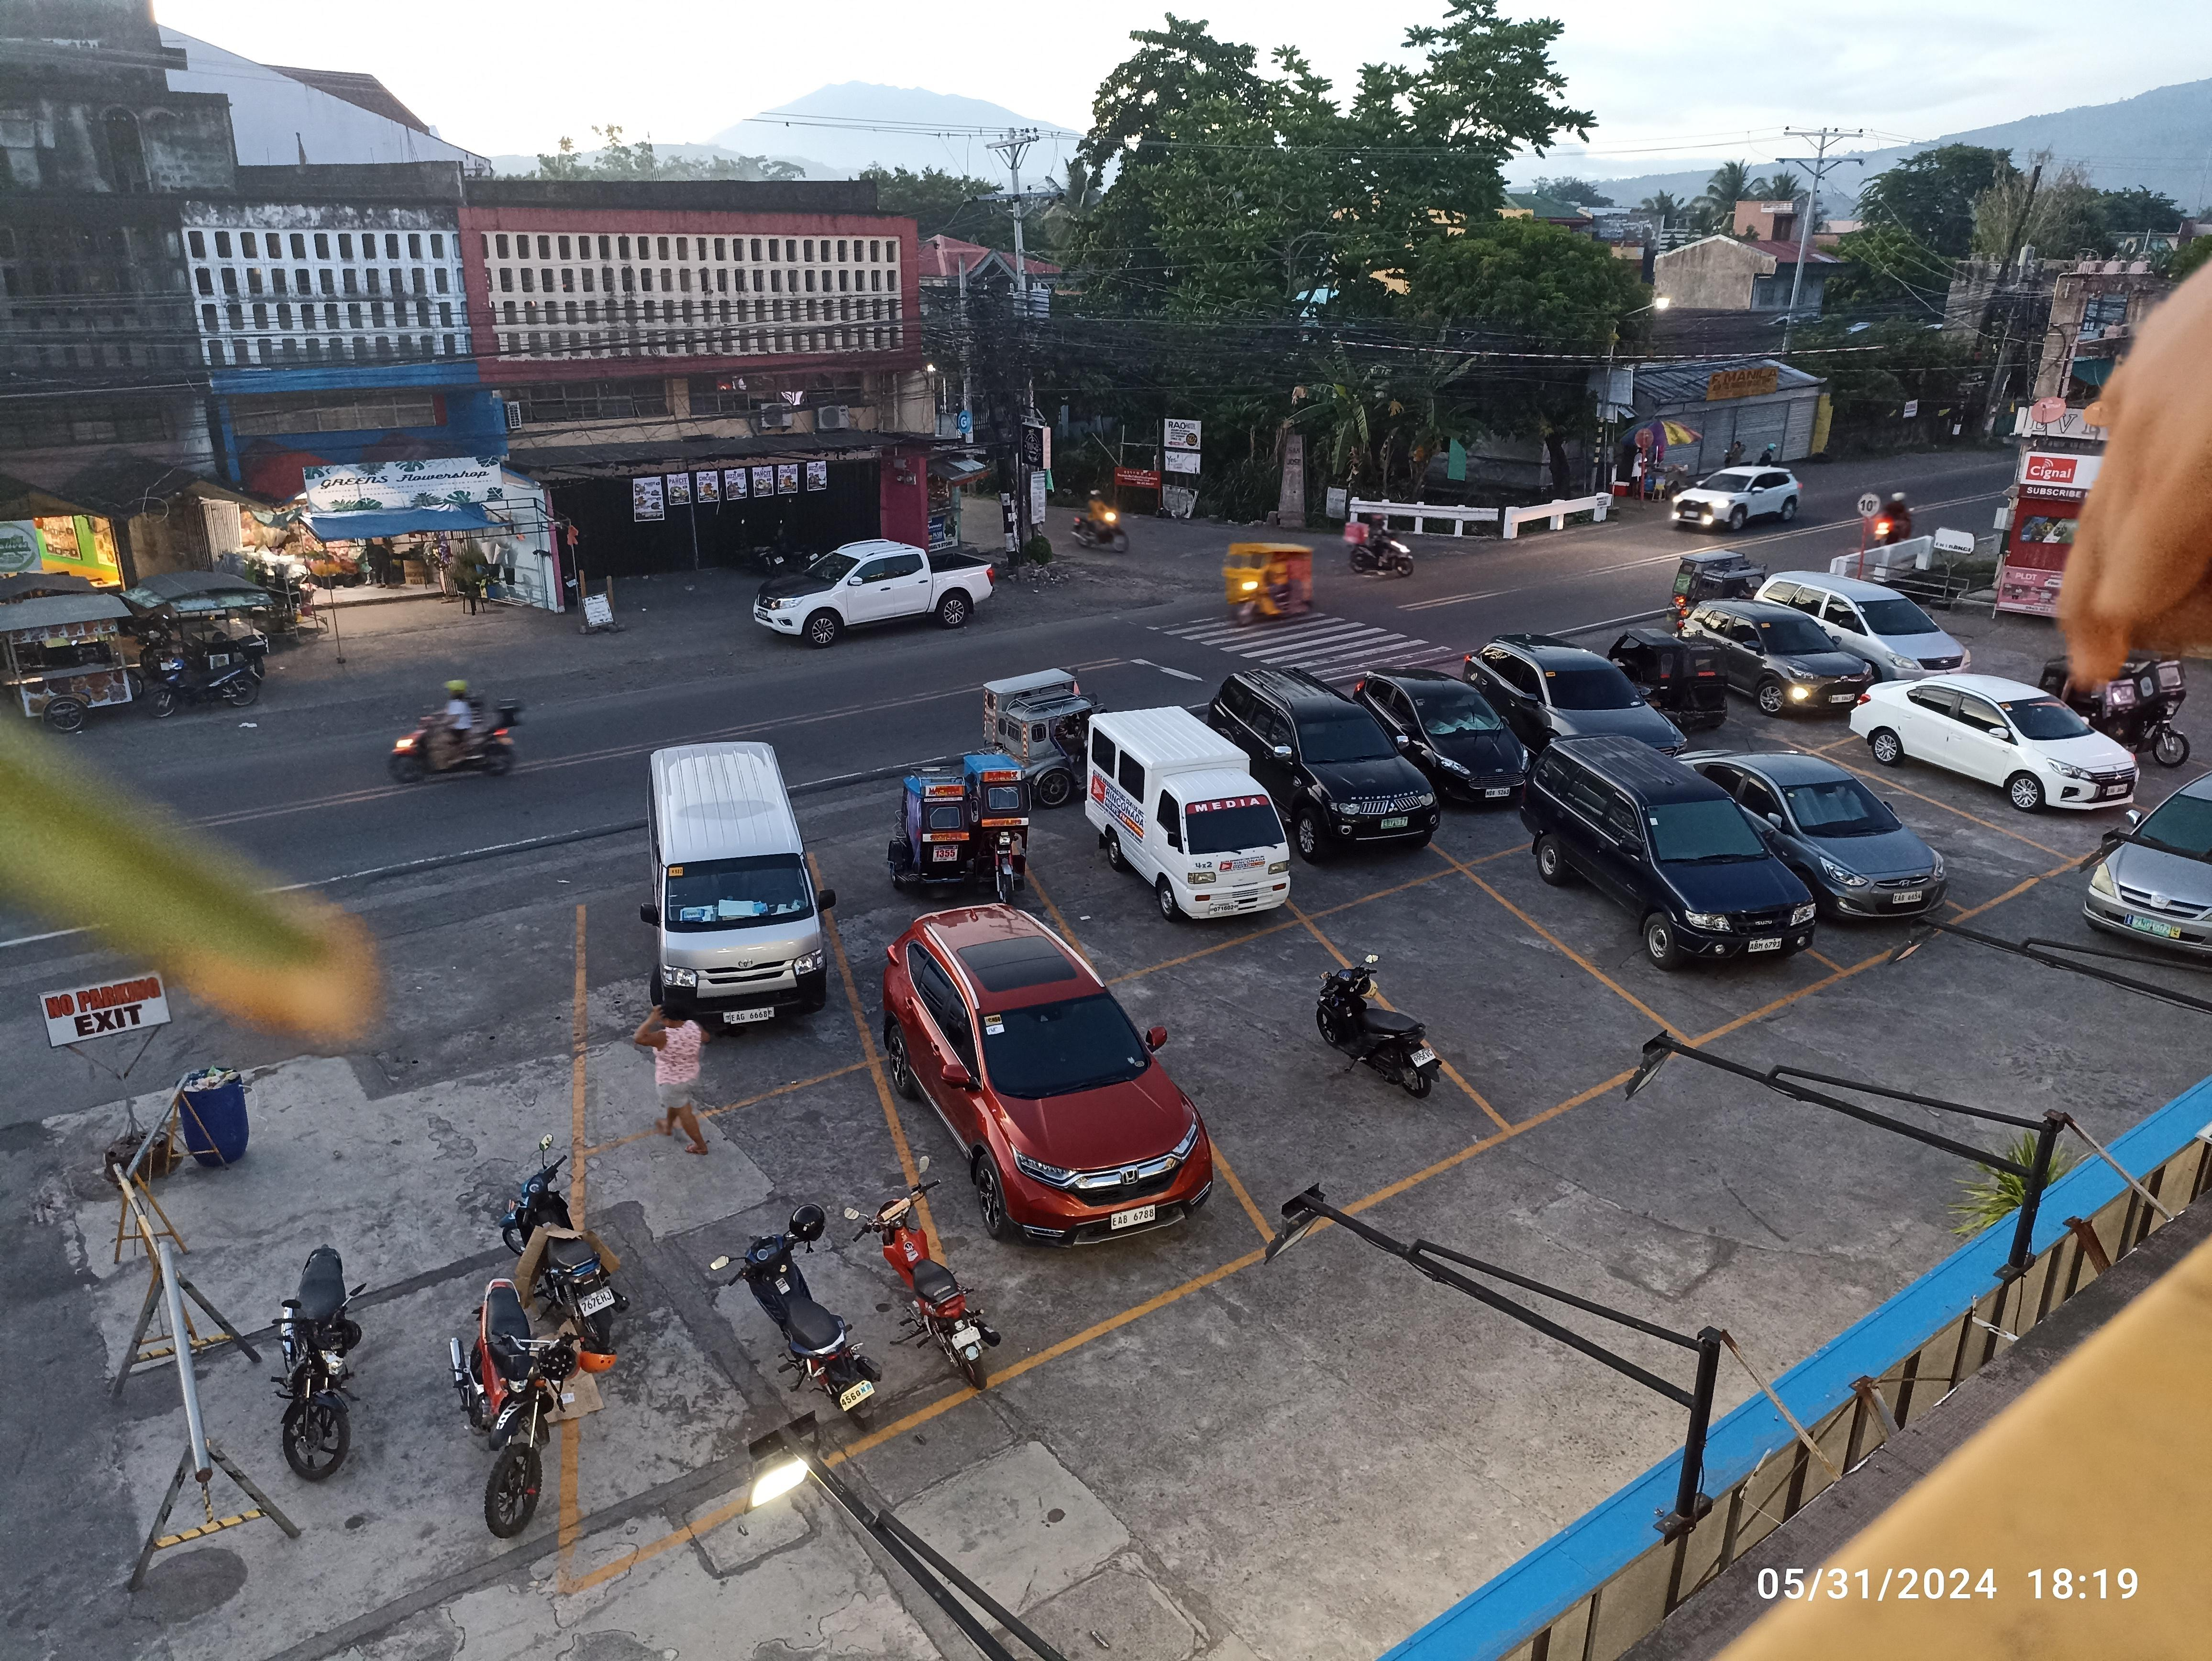occupied: (555, 1057, 982, 1603), (865, 977, 1287, 1403), (1097, 913, 1523, 1258), (1448, 813, 1854, 1052), (577, 855, 870, 1153), (804, 813, 1108, 1071), (1000, 792, 1314, 993), (1715, 750, 2085, 919)
vacant: (1294, 864, 1704, 1143)
